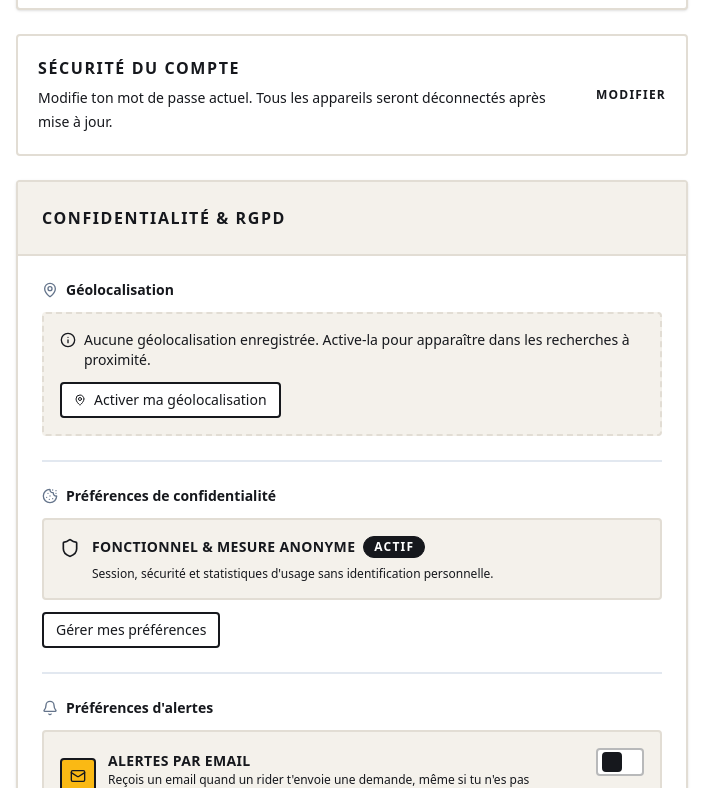
Test: Géolocalisation — aucune position enregistrée › GPS réussi → appelle PUT /pro/me, affiche Position active
(page scrolled)
Click the button "Activer ma géolocalisation": click(170, 400) [60, 382, 281, 418]
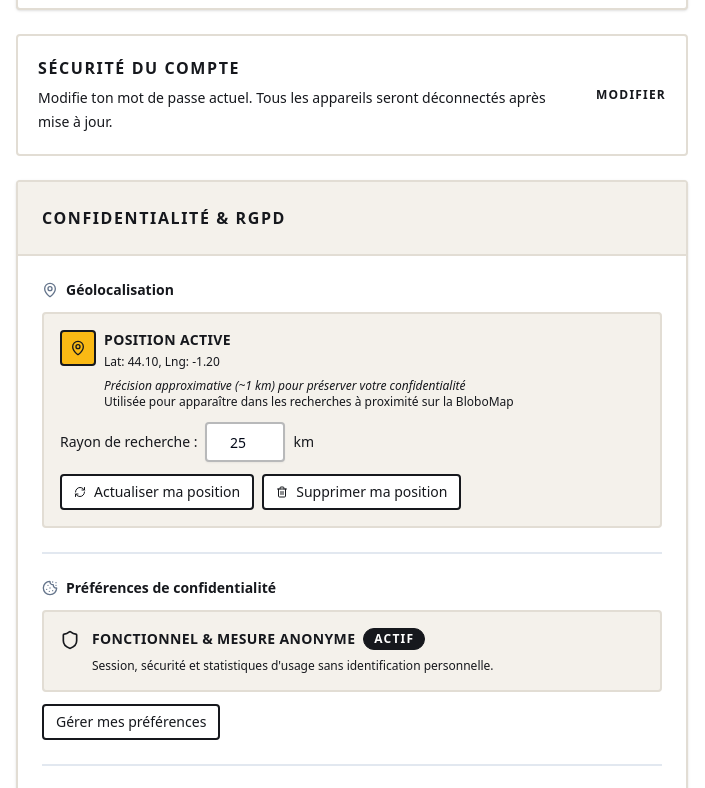
Check: the text "Position active" is shown, box [104, 330, 231, 349]
